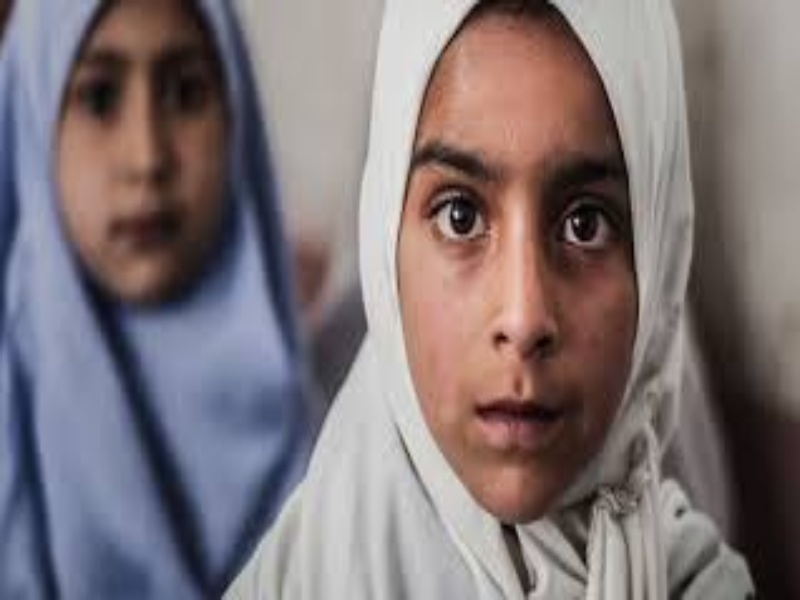face: (400, 84, 638, 457)
